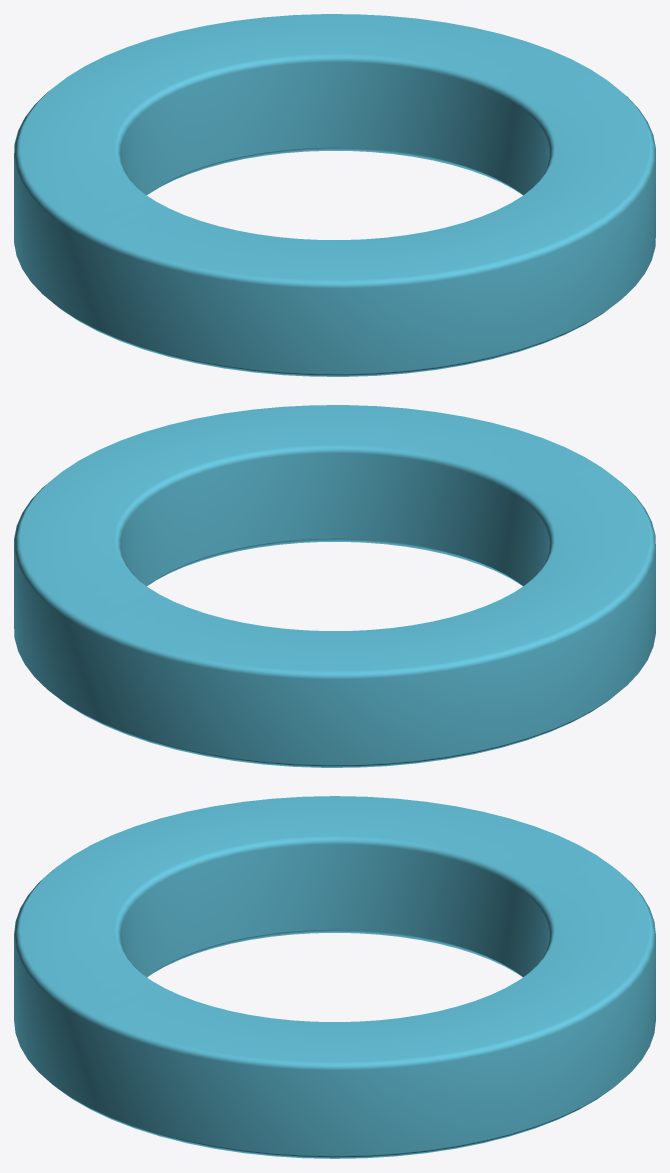
3 views of the same model, one above another, from view 1: azimuth 30°, elevation 25°; view 2: azimuth 150°, elevation 25°; view 3: azimuth 270°, elevation 25° (orthographic).
Visible parts, largest first — view 1: seal_body; view 2: seal_body; view 3: seal_body.
Part boxes in pixels (box(x1,y1,x2,y2)): seal_body: box(14, 14, 655, 376); seal_body: box(14, 405, 655, 767); seal_body: box(14, 796, 655, 1158).
Size of the model in its own units: 0.06 by 0.01 by 0.06.
